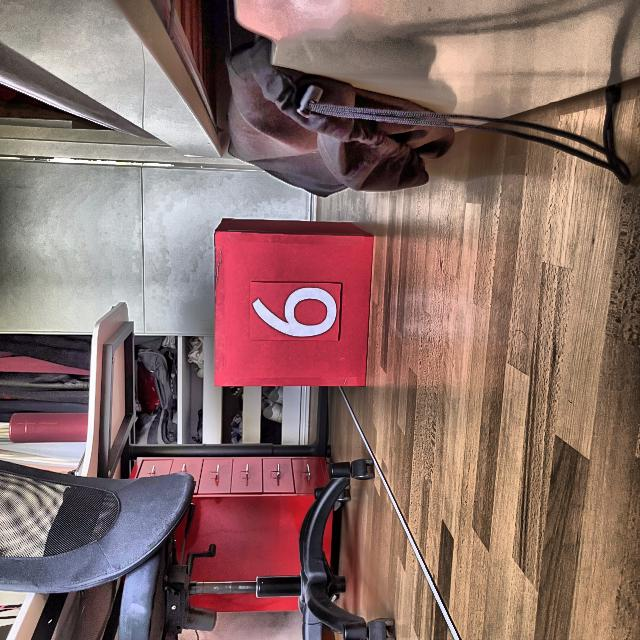red box: (213, 218, 373, 390)
six: (251, 284, 340, 340)
